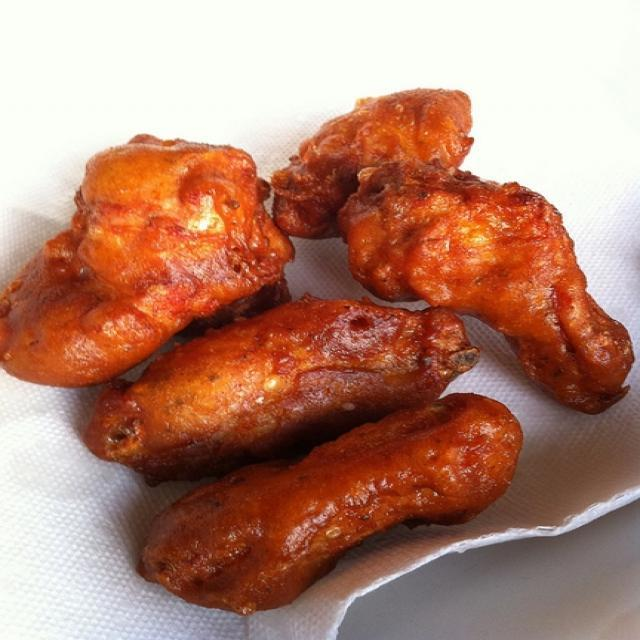Deep fried chicken wing: (15, 84, 633, 600)
